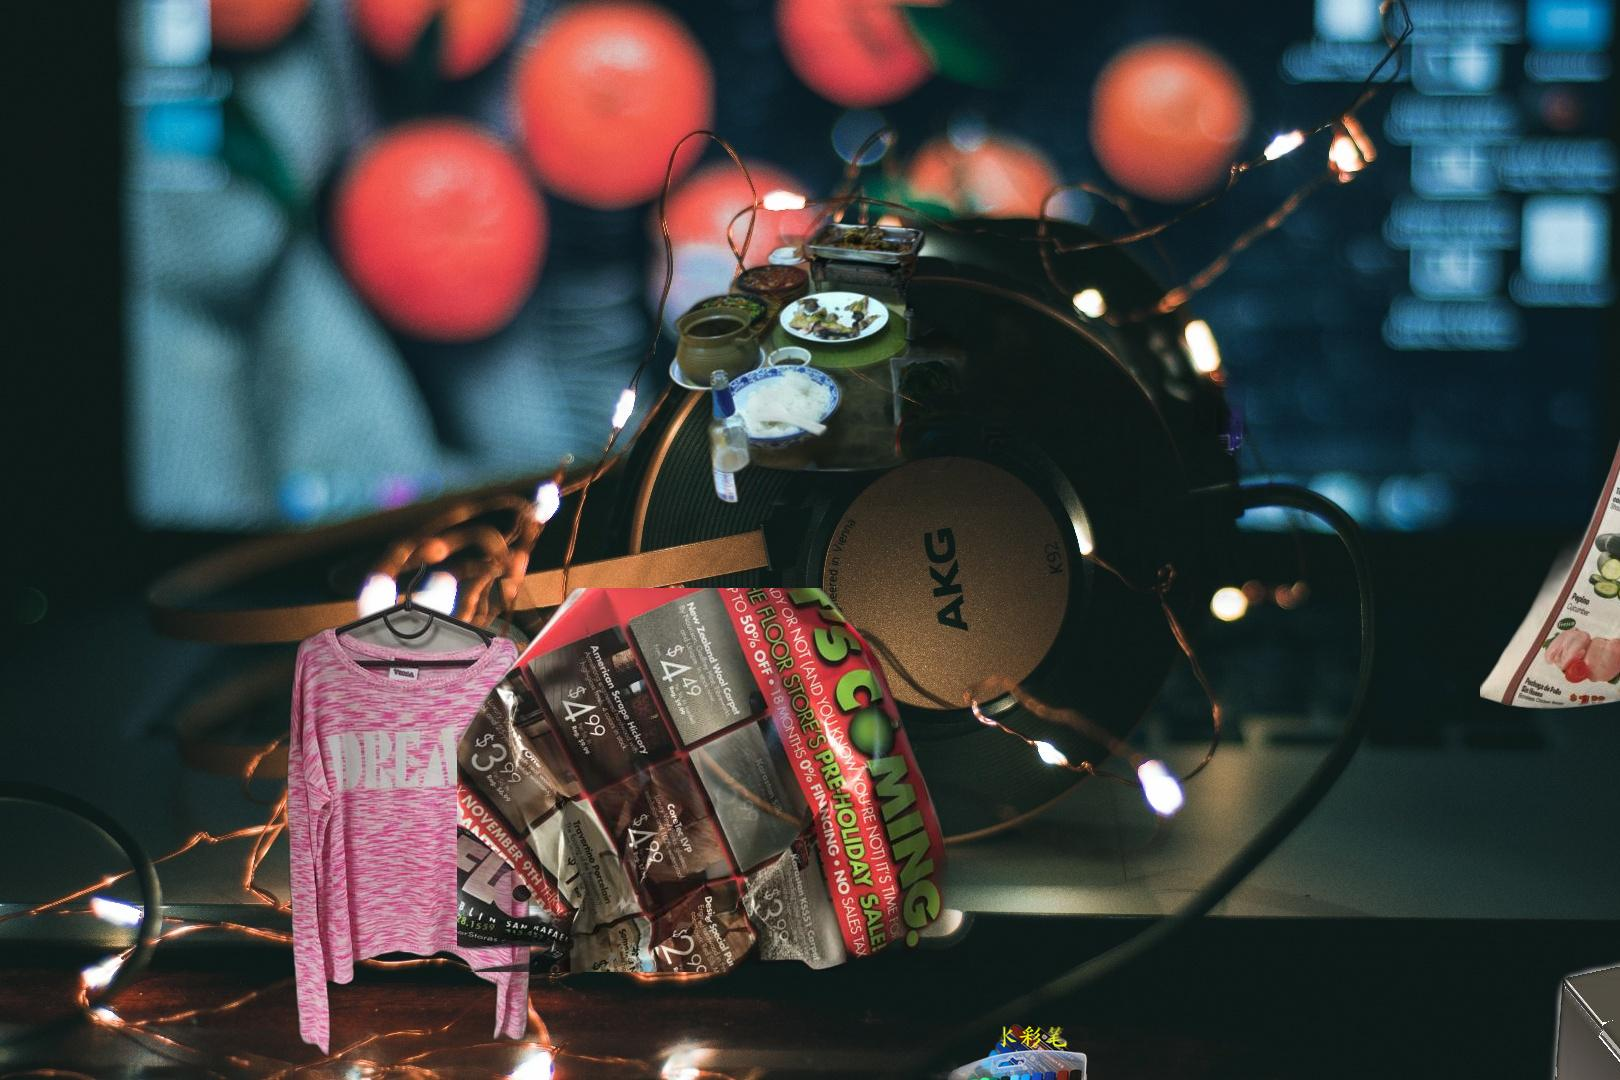biological: (589, 219, 1140, 506)
clothes: (284, 562, 534, 1061)
metal-cans: (824, 716, 896, 832)
paper: (457, 588, 969, 972), (1480, 353, 1620, 712)
penholder: (1008, 276, 1363, 607), (877, 1022, 1088, 1080)
trashbox-cardboard: (1544, 598, 1620, 1080)
